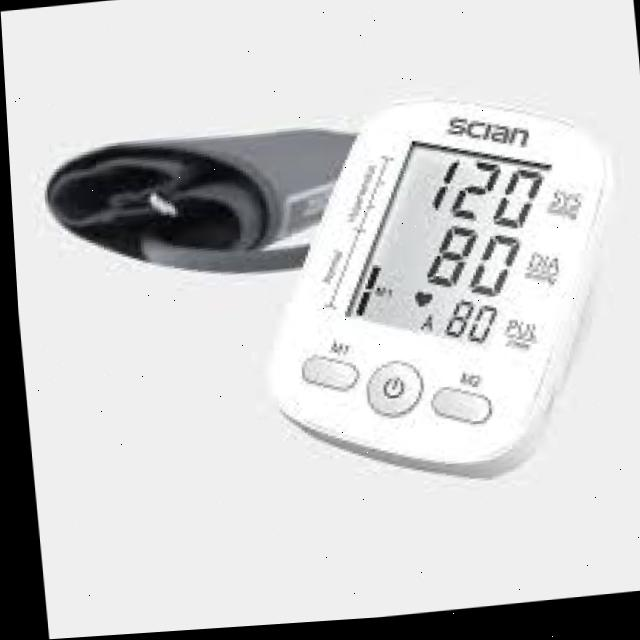dia: (404, 218, 524, 314)
pul: (423, 295, 501, 359)
ssd: (341, 127, 549, 371)
sys: (416, 153, 550, 245)
